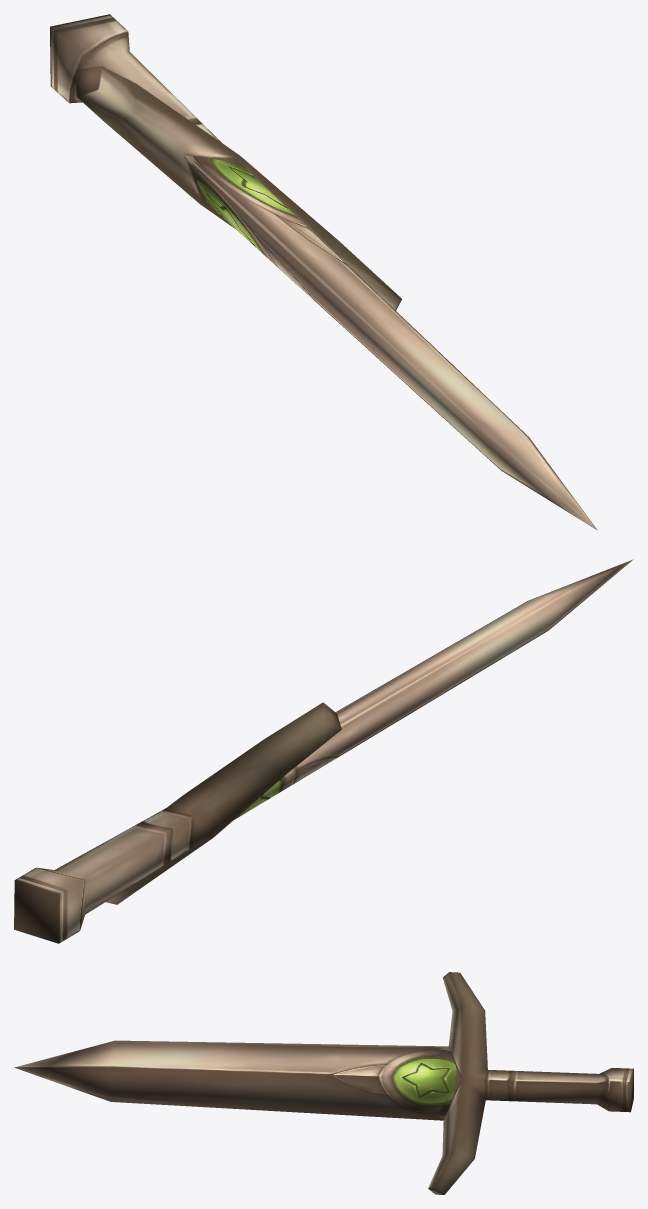
File: Sword(38).obj
The picture shows the model from 3 angles, top to bottom: view 1: azimuth 30°, elevation 25°; view 2: azimuth 150°, elevation 25°; view 3: azimuth 270°, elevation 25°; orthographic projection. The views are drawn at different scales.
Parts seen in each view (by area): view 1: sword1_LOD003; view 2: sword1_LOD003; view 3: sword1_LOD003.
Part boxes in pixels (x1,y1,x2,y2): sword1_LOD003: [50, 14, 597, 530]; sword1_LOD003: [14, 559, 633, 943]; sword1_LOD003: [14, 972, 633, 1194].
Size of the model in its own units: 0.3946 by 0.3871 by 1.37.
